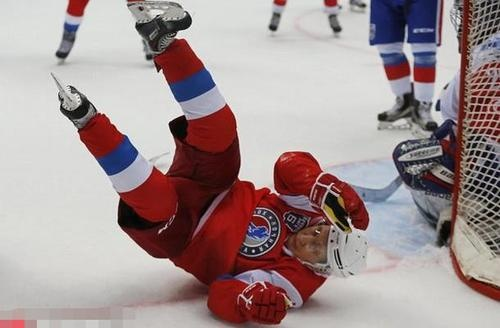falling: (41, 4, 368, 320)
